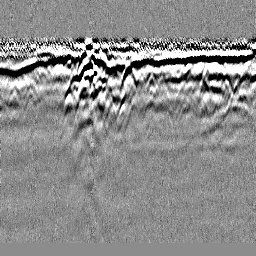cavity: (120, 60, 137, 91)
